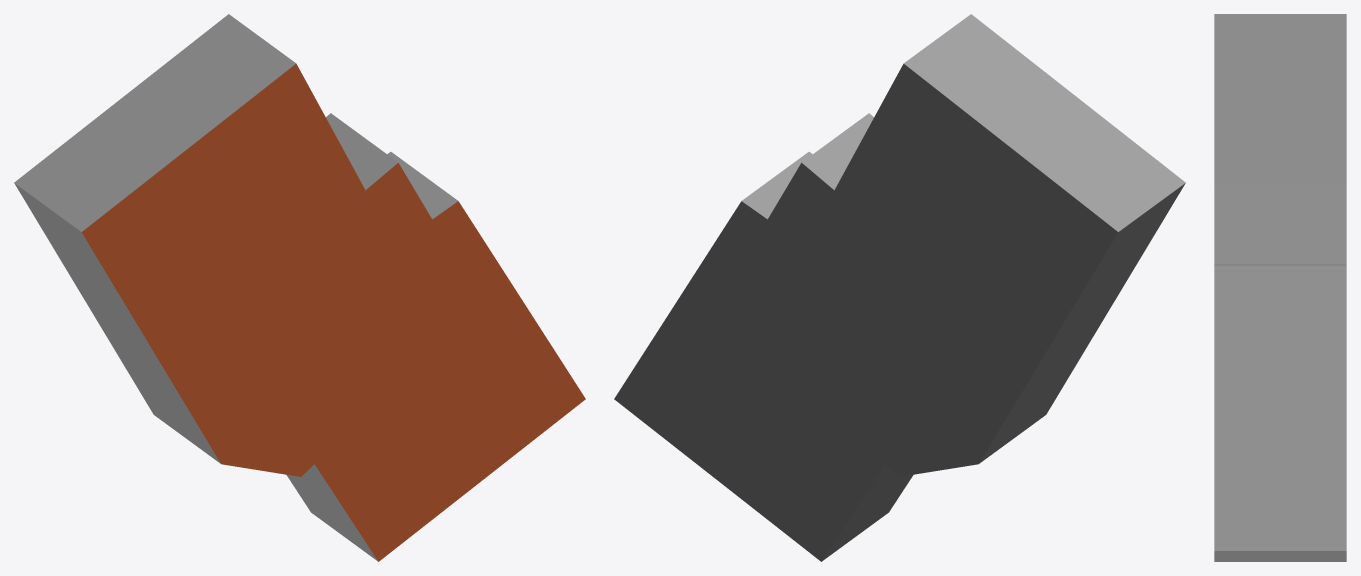
Rendered from construction_0881_assumed_A_Casa_h6m.obj.
3 renders of one model, left to right at view 1: azimuth 30°, elevation 25°; view 2: azimuth 150°, elevation 25°; view 3: azimuth 270°, elevation 25°, orthographic.
Visible parts, largest first — view 1: construction_0881_assumed_A_Casa; view 2: construction_0881_assumed_A_Casa; view 3: construction_0881_assumed_A_Casa.
Boxes of the visible parts, x1,y1,x2,y2 form: construction_0881_assumed_A_Casa: (14,14,585,561); construction_0881_assumed_A_Casa: (614,14,1185,561); construction_0881_assumed_A_Casa: (1214,14,1346,561).
Size of the model in its own units: 25.85 by 25.39 by 6.
